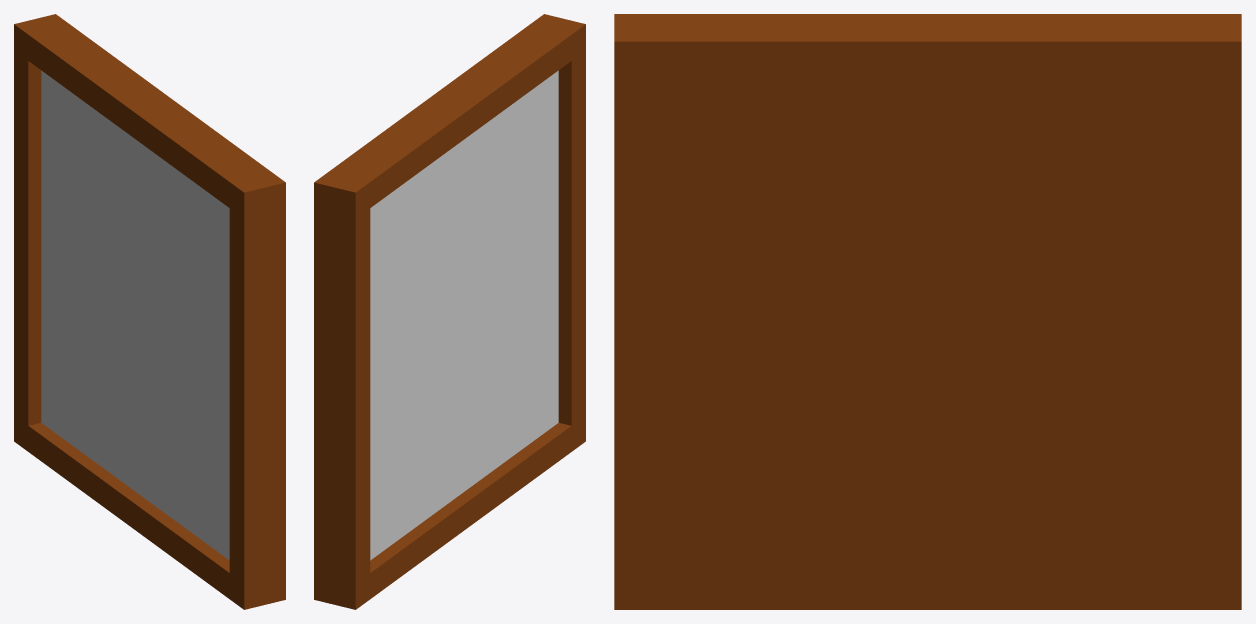
Rendered from cuadro.fbx.
3 views of the same model, side by side, from view 1: azimuth 30°, elevation 25°; view 2: azimuth 150°, elevation 25°; view 3: azimuth 270°, elevation 25° (orthographic). The views are drawn at different scales.
Parts seen in each view (by area): view 1: cuadro_1; view 2: cuadro_1; view 3: cuadro_1.
Boxes of the visible parts, x1=… form: cuadro_1: x1=14, y1=14, x2=285, y2=609; cuadro_1: x1=314, y1=14, x2=585, y2=609; cuadro_1: x1=614, y1=14, x2=1241, y2=609.
Size of the model in its own units: 4.58 by 43.72 by 43.72.
